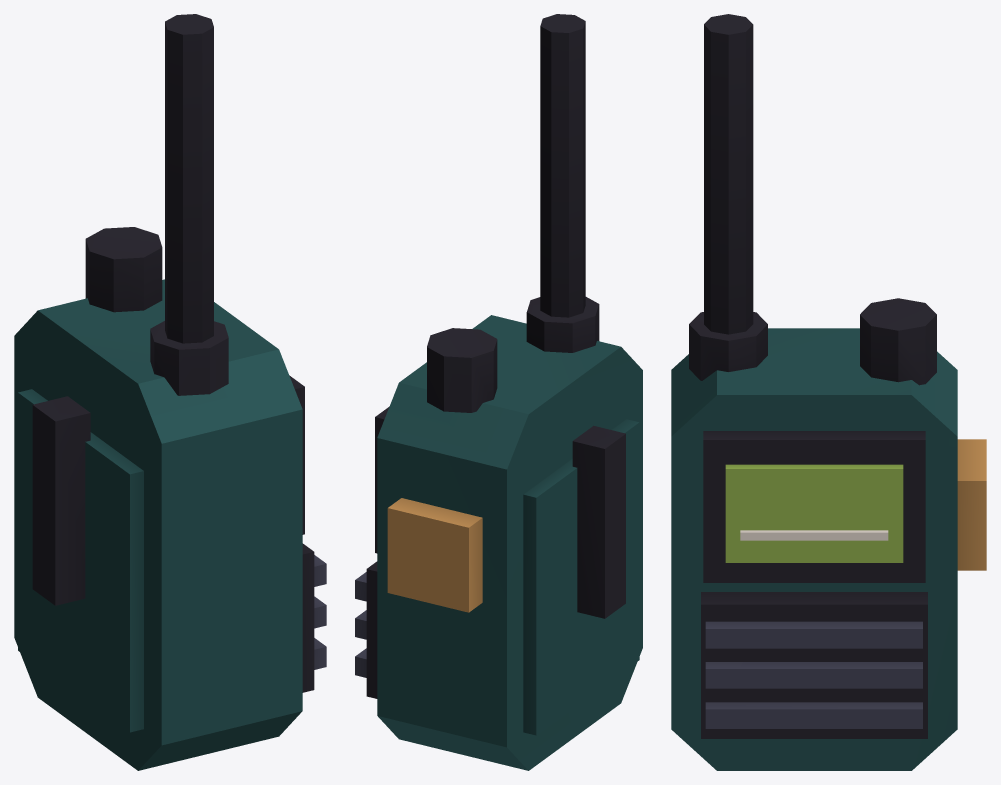
The picture shows the model from 3 angles, left to right: view 1: azimuth 30°, elevation 25°; view 2: azimuth 150°, elevation 25°; view 3: azimuth 270°, elevation 25°; orthographic projection. The views are drawn at different scales.
Visible parts, largest first — view 1: body_pal_tealDark, body_pal_uiDark, body_pal_navySeam; view 2: body_pal_tealDark, body_pal_uiDark, body_pal_brass, body_pal_navySeam; view 3: body_pal_uiDark, body_pal_tealDark, body_pal_navySeam, body_pal_foliageLight, body_pal_brass, body_pal_picketWhite.
Part boxes in pixels (left/top/right/bottom): body_pal_tealDark: left=14, top=279, right=302, bottom=770; body_pal_uiDark: left=32, top=14, right=314, bottom=692; body_pal_navySeam: left=314, top=555, right=326, bottom=669; body_pal_tealDark: left=377, top=315, right=642, bottom=770; body_pal_uiDark: left=366, top=14, right=625, bottom=698; body_pal_brass: left=387, top=498, right=482, bottom=612; body_pal_navySeam: left=355, top=572, right=366, bottom=677; body_pal_uiDark: left=689, top=14, right=936, bottom=738; body_pal_tealDark: left=671, top=328, right=957, bottom=770; body_pal_navySeam: left=705, top=621, right=922, bottom=728; body_pal_foliageLight: left=725, top=464, right=903, bottom=562; body_pal_brass: left=957, top=439, right=986, bottom=570; body_pal_picketWhite: left=740, top=530, right=888, bottom=540.
Size of the model in its own units: 0.2575 by 0.79 by 0.3195.
